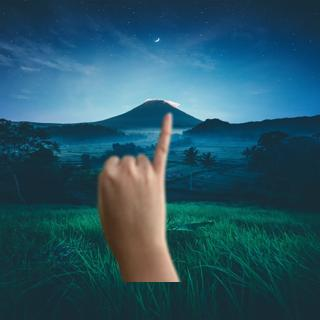FINE: (92, 108, 185, 252)
